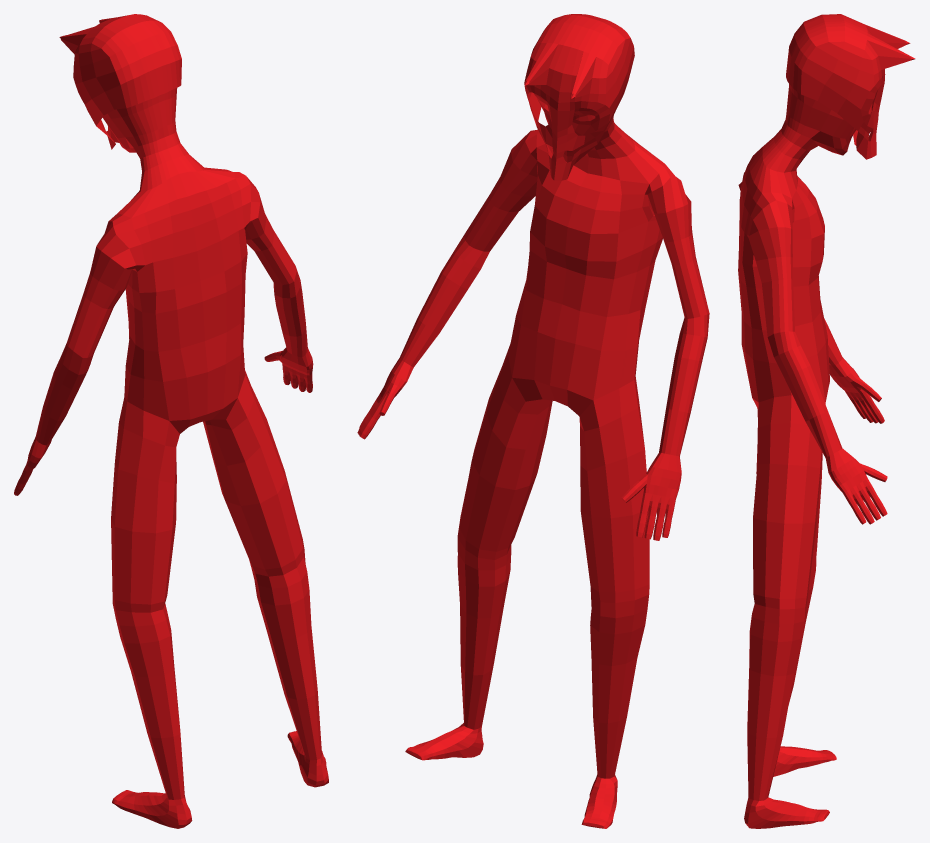
File: reposoE_000282.obj
The picture shows the model from 3 angles, left to right: view 1: azimuth 30°, elevation 25°; view 2: azimuth 150°, elevation 25°; view 3: azimuth 270°, elevation 25°; orthographic projection. The views are drawn at different scales.
Parts seen in each view (by area): view 1: Plane.002_Plane.001; view 2: Plane.002_Plane.001; view 3: Plane.002_Plane.001.
Boxes of the visible parts, <box> form: Plane.002_Plane.001: <box>14,14,328,828</box>; Plane.002_Plane.001: <box>357,14,709,828</box>; Plane.002_Plane.001: <box>738,14,915,828</box>.
Size of the model in its own units: 2.85 by 7.15 by 1.54.
